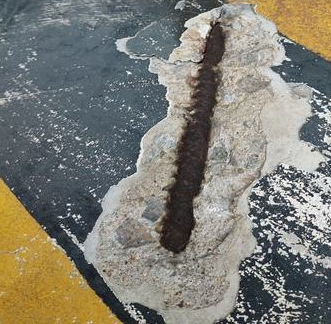Exposed reinforcement: (160, 20, 227, 254)
Spalling: (82, 1, 327, 324)
